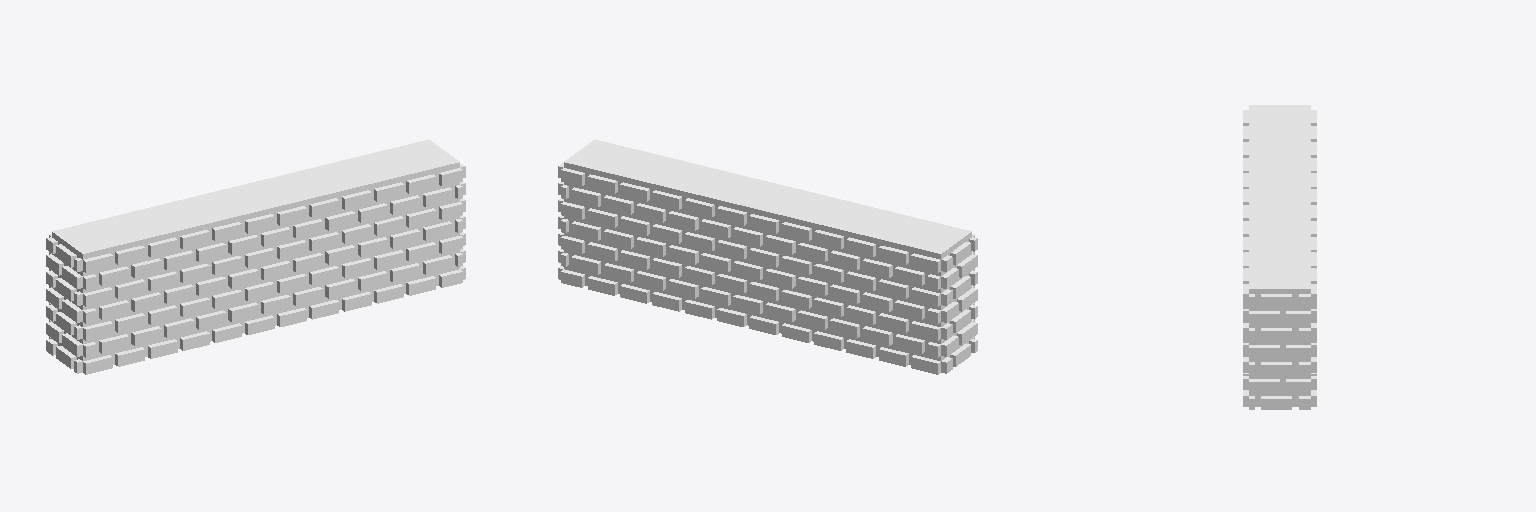
Rendered from mini_wall_1.0.obj.
3 views of the same model, side by side, from view 1: azimuth 30°, elevation 25°; view 2: azimuth 150°, elevation 25°; view 3: azimuth 270°, elevation 25° (orthographic).
Visible parts, largest first — view 1: object 1; view 2: object 1; view 3: object 1.
Part boxes in pixels (x1,y1,x2,y2): object 1: (46, 139, 465, 374); object 1: (558, 139, 977, 374); object 1: (1243, 105, 1316, 409).
Size of the model in its own units: 7.2 by 2.1 by 1.2.